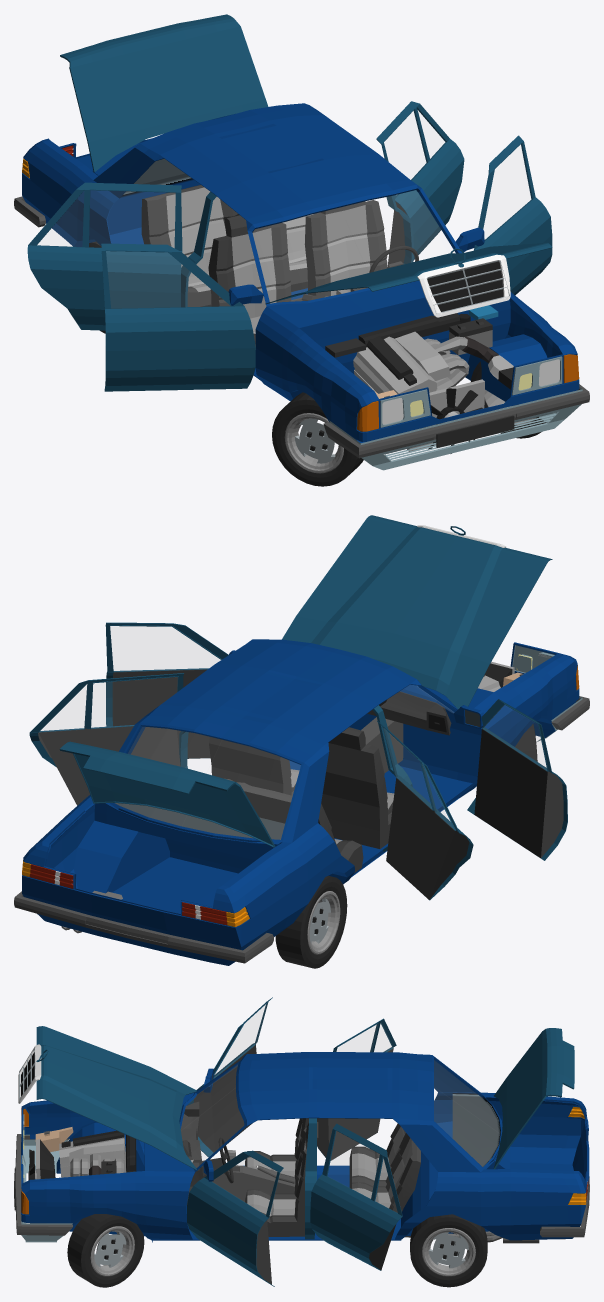
File: mercedes.glb
The picture shows the model from 3 angles, top to bottom: view 1: azimuth 30°, elevation 25°; view 2: azimuth 150°, elevation 25°; view 3: azimuth 270°, elevation 25°; orthographic projection. The views are drawn at different scales.
Visible parts, largest first — view 1: Cube, Coffre.001, Porte avant, Moteur.001, Chaises avant.001, Porte arriere, Capot.001, Bumper, object 6, Porte arriere.002, Pneu avant droite.001, Porte avant.001 (+6 smaller); view 2: Cube, Capot.001, Chaises avant.001, Coffre.001, Porte avant, Porte arriere, Porte arriere.002, Porte avant.001, object 16, Bumper back, object 6, Tableau de bord.001 (+6 smaller); view 3: Cube, Capot.001, Porte arriere.002, Porte avant.001, Coffre.001, object 17, Pneu avant gauche.002, Moteur.001, object 6, Chaises avant.001, Porte avant, Porte arriere (+5 smaller).
Boxes of the visible parts, x1,y1,x2,y2 form: Cube: (22,103,579,443); Coffre.001: (60,14,268,172); Porte avant: (101,243,255,391); Moteur.001: (325,305,513,453); Chaises avant.001: (208,200,387,346); Porte arriere: (27,182,182,330); Capot.001: (265,243,552,317); Bumper: (323,384,589,470); object 6: (141,185,320,306); Porte arriere.002: (376,101,464,265); Pneu avant droite.001: (272,392,363,486); Porte avant.001: (474,135,552,295); Cube: (22,639,579,965); Capot.001: (282,515,552,709); Chaises avant.001: (209,727,394,848); Coffre.001: (59,741,275,847); Porte avant: (467,699,567,860); Porte arriere: (377,721,473,900); Porte arriere.002: (29,673,183,805); Porte avant.001: (105,622,228,758); object 16: (275,875,347,968); Bumper back: (14,891,273,963); object 6: (224,778,363,872); Tableau de bord.001: (367,691,451,735); Cube: (21,1052,589,1242); Capot.001: (18,1026,197,1170); Porte arriere.002: (310,1123,402,1270); Porte avant.001: (187,1150,283,1286); Coffre.001: (493,1028,574,1169); object 17: (410,1214,487,1287); Pneu avant gauche.002: (67,1214,144,1287); Moteur.001: (28,1127,136,1180); object 6: (349,1123,420,1212); Chaises avant.001: (245,1118,318,1236); Porte avant: (188,997,272,1157); Porte arriere: (317,1018,396,1160).
Bounding box in the file's own units: 2.36 × 1.16 × 3.14.
5 materials, 3 textured.
